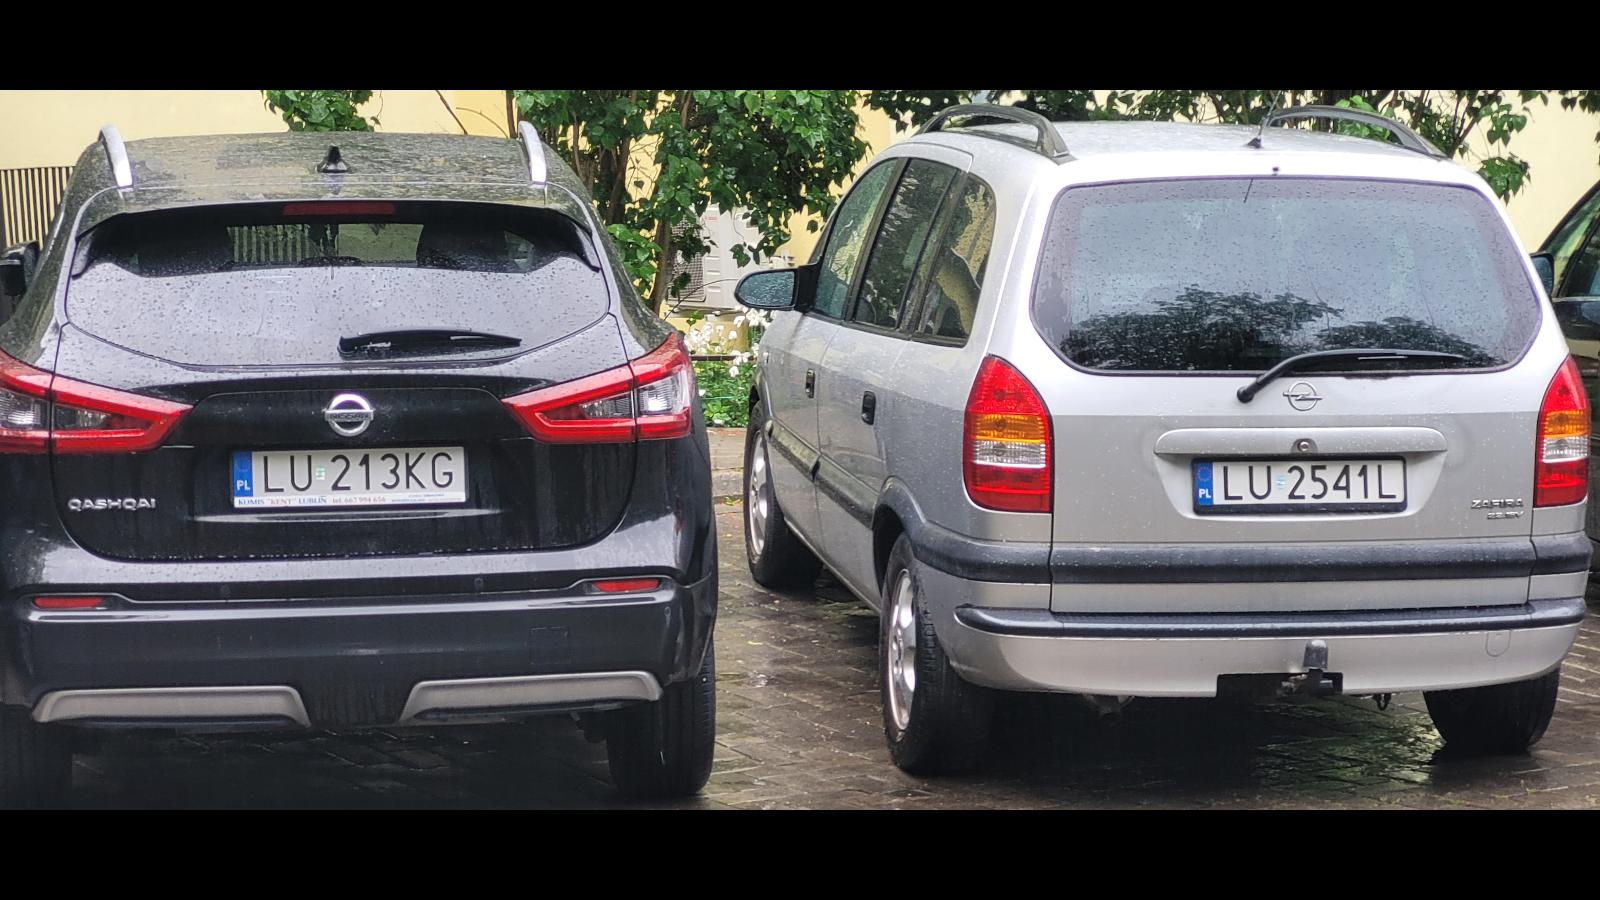plates: (229, 442, 469, 508), (1192, 455, 1408, 514)
